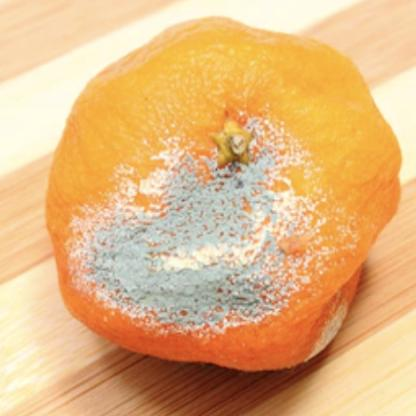rotten: (48, 18, 403, 377)
